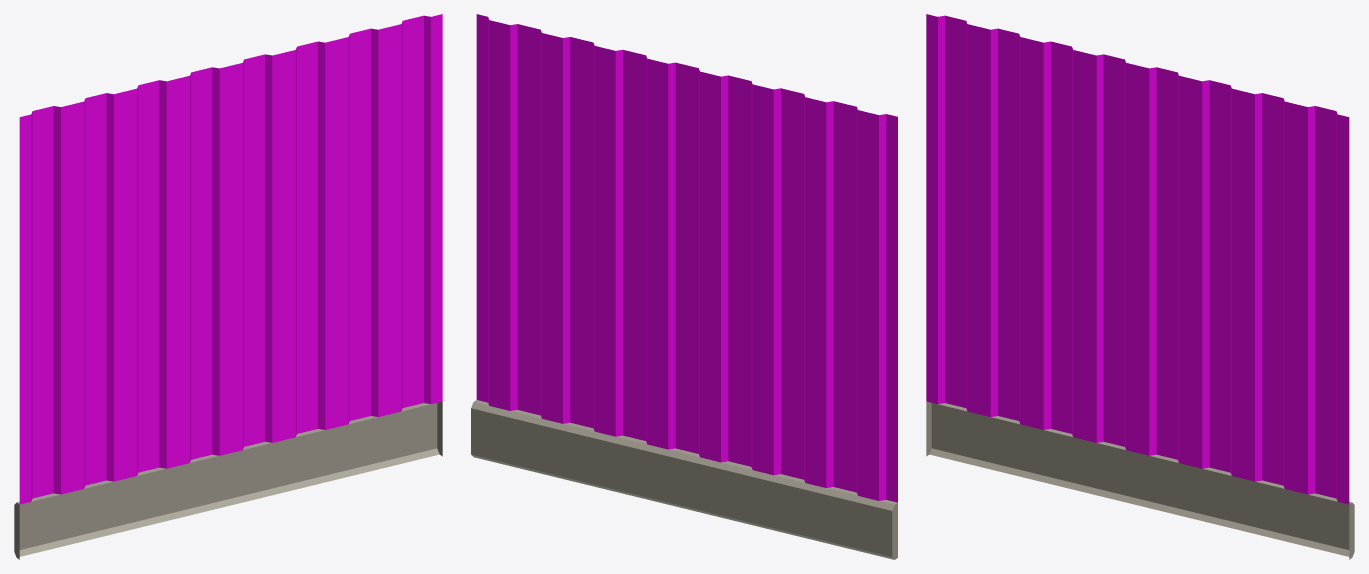
The model's file is ind_wall.glb.
3 renders of one model, left to right at view 1: azimuth 30°, elevation 25°; view 2: azimuth 150°, elevation 25°; view 3: azimuth 330°, elevation 25°, orthographic.
Visible parts, largest first — view 1: ind_wall__mesh; view 2: ind_wall__mesh; view 3: ind_wall__mesh.
Boxes of the visible parts, x1,y1,x2,y2 form: ind_wall__mesh: [14, 14, 442, 559]; ind_wall__mesh: [471, 14, 897, 559]; ind_wall__mesh: [926, 14, 1354, 559].
Size of what is drawn, in the model's own units: 4 by 4 by 0.09.
Materials: 1 (1 with a texture image).
